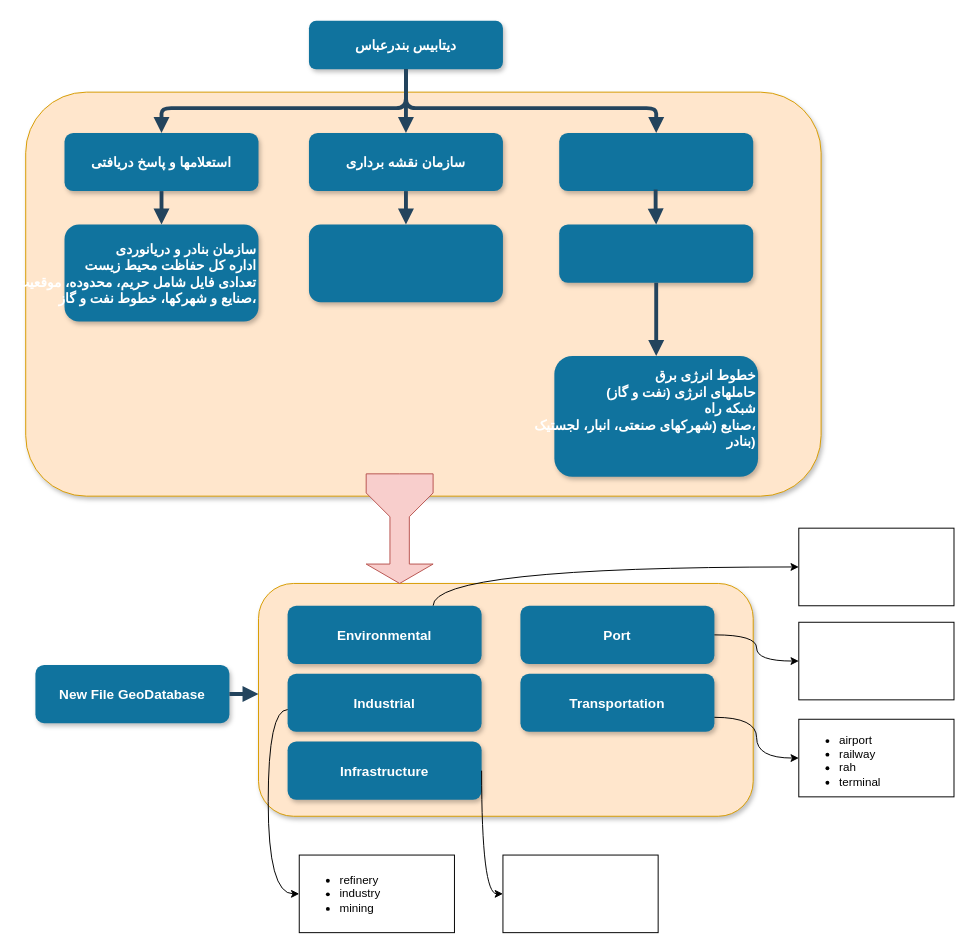
Image size: 971x950. Some labels were removed from this diagram. Here are the shapes that lost their labels. From the top down, the centre of each, then its label:
At pixel 657 163: "OSM".
At pixel 406 264: "خطوط برق، نفت و گاز، شبکه راه، نقاط ارتفاعی،راه آهن، رودخانه ها و خط ساحل و دریا".
At pixel 657 254: "تصویر هوایی کل حریم و بزرگتر از آن".
At pixel 876 566: "coastline contour Genu protected area Hera protected area".
At pixel 876 660: "Haghani, Bahonar, Rajaee".
At pixel 580 893: "energy powerline powerplant sewage".
